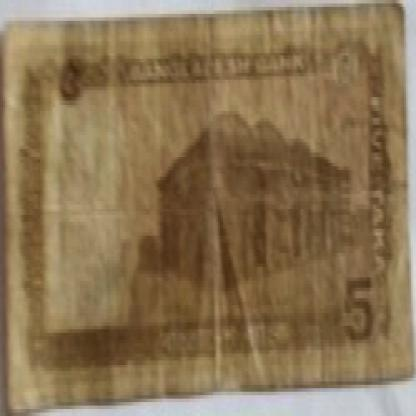Five Taka: (341, 270, 376, 357), (53, 52, 85, 111)
